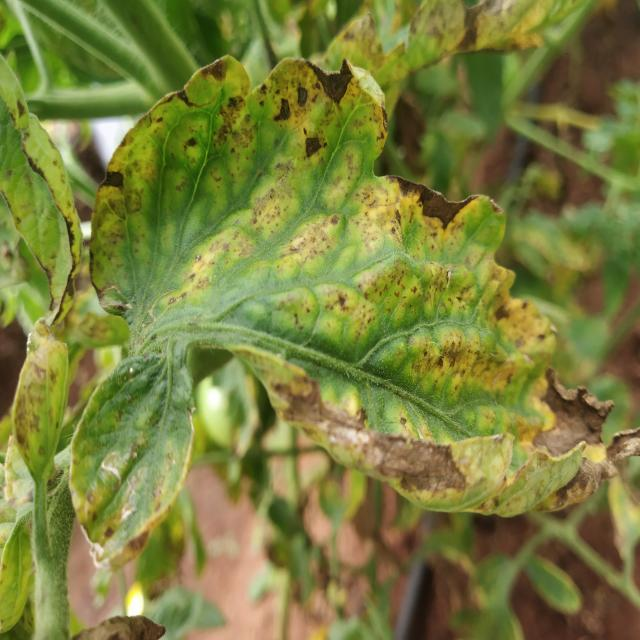Tomato mosaic virus leaf: (72, 56, 640, 549)
